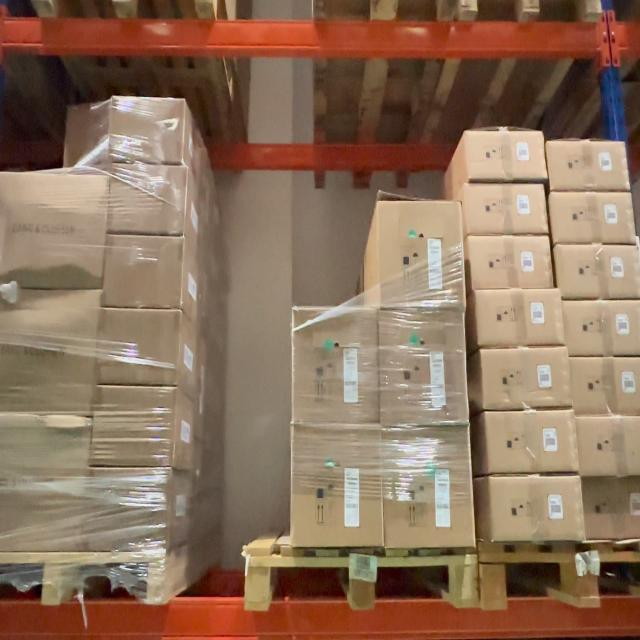box: (381, 421, 476, 549), (289, 424, 384, 548), (378, 307, 469, 426), (376, 192, 466, 307), (293, 307, 380, 423), (83, 468, 172, 549), (90, 385, 177, 466), (95, 308, 181, 387), (489, 473, 586, 541), (101, 234, 184, 311), (485, 409, 579, 476), (480, 346, 572, 411), (107, 164, 188, 237), (475, 289, 565, 348), (553, 242, 640, 301), (108, 97, 184, 164), (549, 189, 639, 245), (546, 138, 632, 193), (468, 237, 554, 292), (463, 126, 548, 181), (561, 297, 640, 356), (463, 183, 549, 236)
